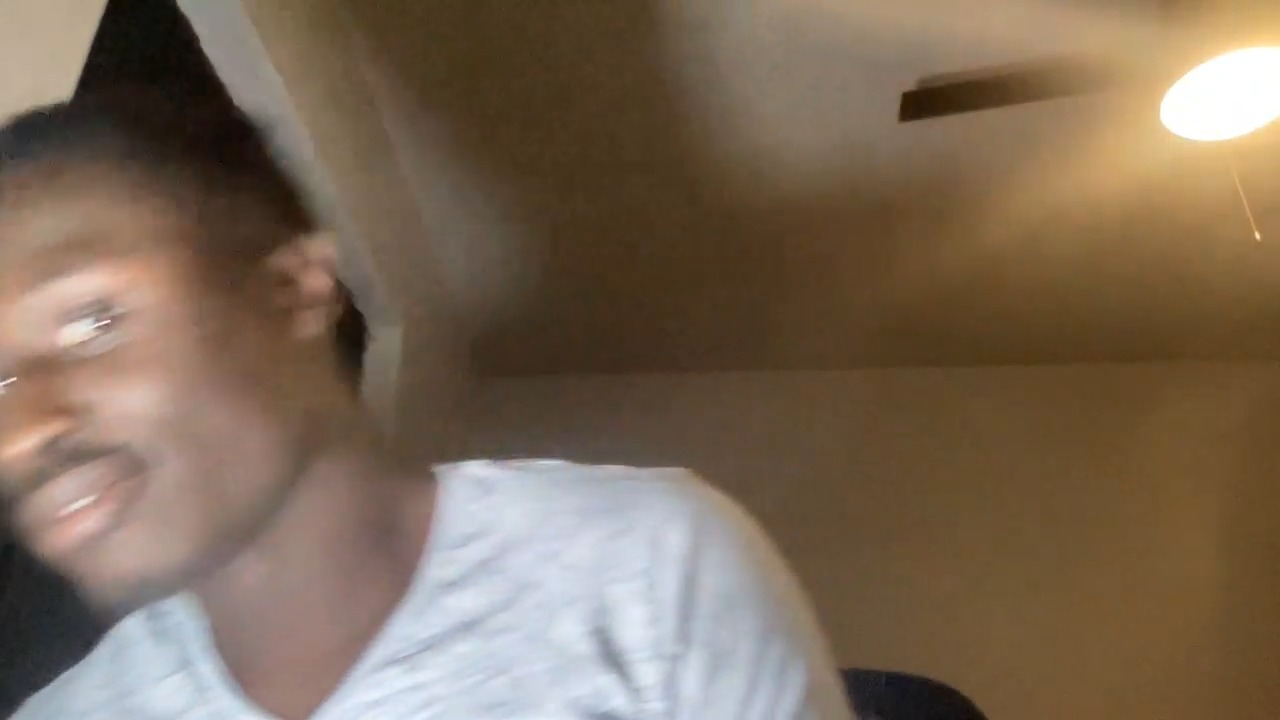face: (0, 102, 341, 616)
